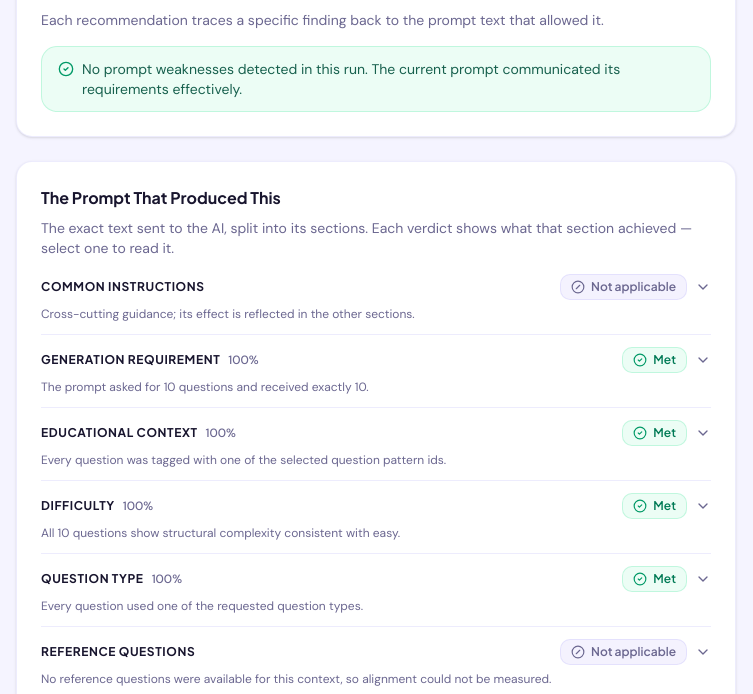
Test case: Evaluation screen › exposes the real prompt, split into its sections
(page scrolled)
Expected: the heading "The Prompt That Produced This" is shown, [41, 187, 281, 208]
Click the button "GENERATION REQUIREMENT 100% Met": point(131, 360) [41, 347, 711, 373]
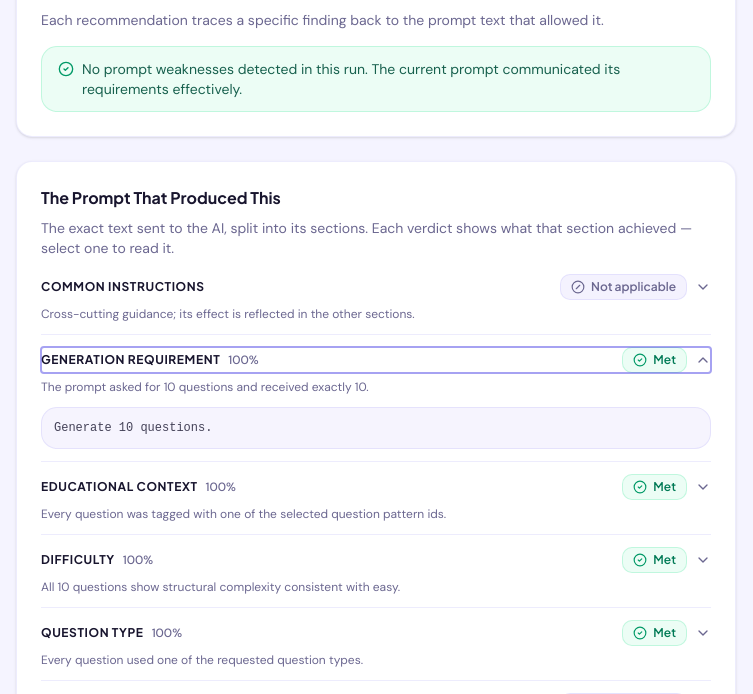
Result: the text "Generate 10 questions." is shown at [41, 407, 711, 449]
